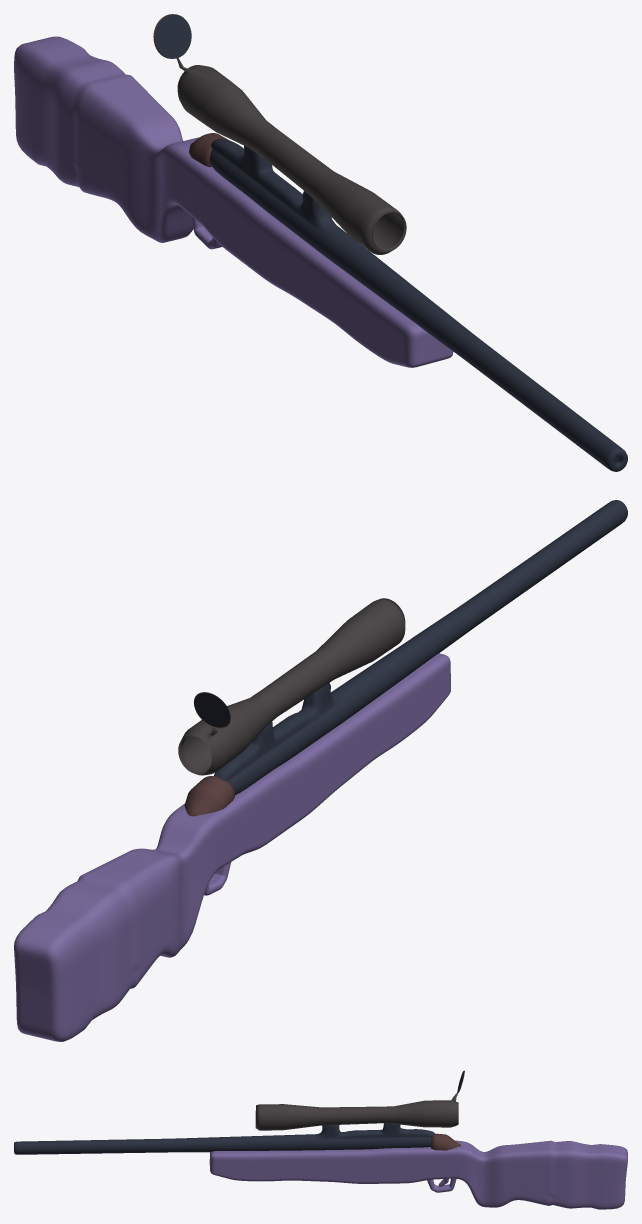
Rendered from sniperrifle0.fbx.
3 views of the same model, one above another, from view 1: azimuth 30°, elevation 25°; view 2: azimuth 150°, elevation 25°; view 3: azimuth 270°, elevation 25° (orthographic). The views are drawn at different scales.
Visible parts, largest first — view 1: Cylinder; view 2: Cylinder; view 3: Cylinder.
Part boxes in pixels (bbox=[...]): Cylinder: bbox=[14, 14, 627, 471]; Cylinder: bbox=[14, 500, 627, 1041]; Cylinder: bbox=[14, 1070, 627, 1209].
Bounding box in the file's own units: 32.51 × 113 × 491.
